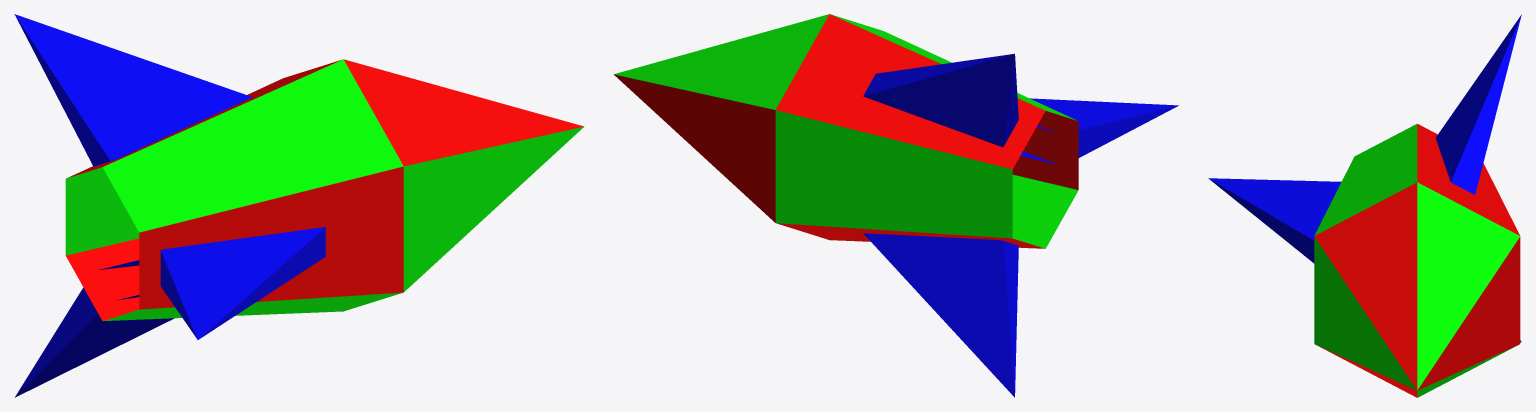
The model's file is missile.glb.
3 views of the same model, side by side, from view 1: azimuth 30°, elevation 25°; view 2: azimuth 150°, elevation 25°; view 3: azimuth 270°, elevation 25° (orthographic). The views are drawn at different scales.
Visible parts, largest first — view 1: bodyb, bodya, wings; view 2: bodyb, bodya, wings; view 3: bodyb, bodya, wings.
Part boxes in pixels (<box>): bodyb: <box>65,59,583,320</box>; bodya: <box>66,59,583,320</box>; wings: <box>14,14,325,397</box>; bodyb: <box>614,14,1078,248</box>; bodya: <box>614,14,1078,248</box>; wings: <box>863,53,1178,397</box>; bodyb: <box>1314,124,1520,397</box>; bodya: <box>1314,124,1520,397</box>; wings: <box>1208,14,1521,342</box>.
Size of the model in its own units: 1.94 by 1.4 by 1.21.
